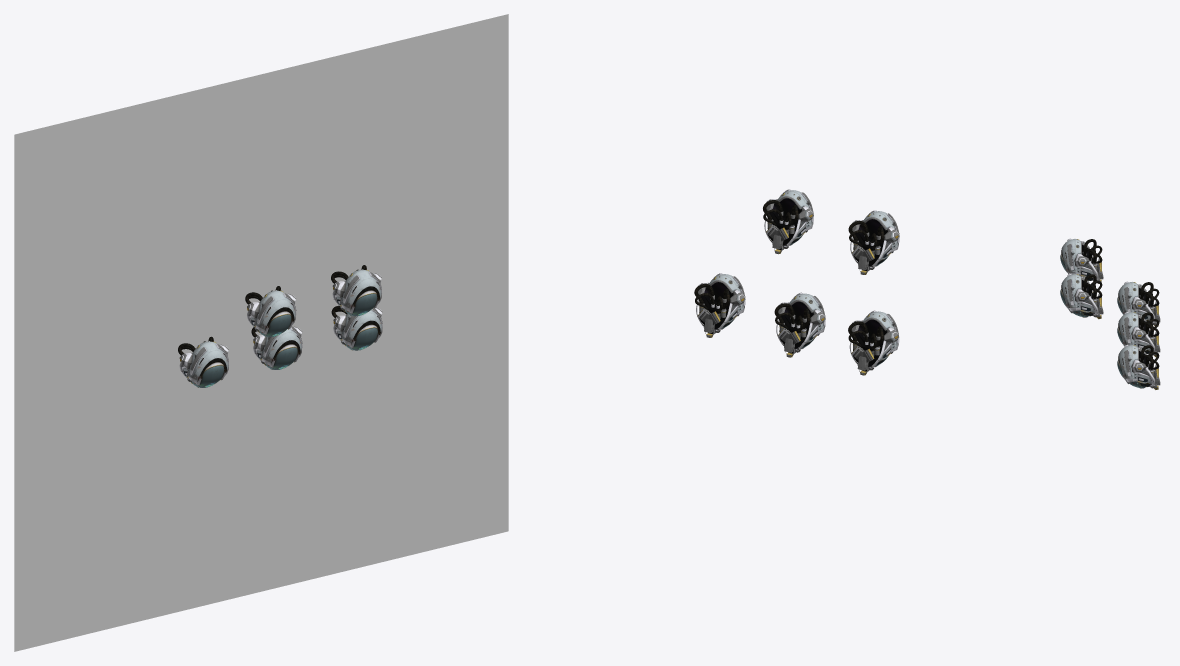
3 renders of one model, left to right at view 1: azimuth 30°, elevation 25°; view 2: azimuth 150°, elevation 25°; view 3: azimuth 270°, elevation 25°, orthographic. The views are drawn at different scales.
Visible parts, largest first — view 1: Plane, node_damagedHelmet_-6514.002, node_damagedHelmet_-6514.004, node_damagedHelmet_-6514.003, node_damagedHelmet_-6514.001, node_damagedHelmet_-6514; view 2: node_damagedHelmet_-6514, node_damagedHelmet_-6514.001, node_damagedHelmet_-6514.002, node_damagedHelmet_-6514.003, node_damagedHelmet_-6514.004; view 3: node_damagedHelmet_-6514.004, node_damagedHelmet_-6514.001, node_damagedHelmet_-6514.003, node_damagedHelmet_-6514, node_damagedHelmet_-6514.002.
Part boxes in pixels (x1=…): Plane: x1=14, y1=14, x2=508, y2=651; node_damagedHelmet_-6514.002: x1=178, y1=336, x2=229, y2=387; node_damagedHelmet_-6514.004: x1=331, y1=265, x2=382, y2=316; node_damagedHelmet_-6514.003: x1=245, y1=286, x2=296, y2=337; node_damagedHelmet_-6514.001: x1=331, y1=305, x2=382, y2=350; node_damagedHelmet_-6514: x1=251, y1=326, x2=302, y2=369; node_damagedHelmet_-6514: x1=774, y1=292, x2=825, y2=357; node_damagedHelmet_-6514.001: x1=694, y1=273, x2=745, y2=337; node_damagedHelmet_-6514.002: x1=848, y1=310, x2=899, y2=375; node_damagedHelmet_-6514.003: x1=848, y1=210, x2=899, y2=274; node_damagedHelmet_-6514.004: x1=763, y1=189, x2=813, y2=254; node_damagedHelmet_-6514.004: x1=1060, y1=273, x2=1103, y2=319; node_damagedHelmet_-6514.001: x1=1117, y1=344, x2=1160, y2=389; node_damagedHelmet_-6514.003: x1=1060, y1=238, x2=1103, y2=283; node_damagedHelmet_-6514: x1=1117, y1=311, x2=1160, y2=357; node_damagedHelmet_-6514.002: x1=1117, y1=281, x2=1160, y2=326.
Size of the model in its own units: 20 by 20 by 4.39.
1 material, 1 textured.
